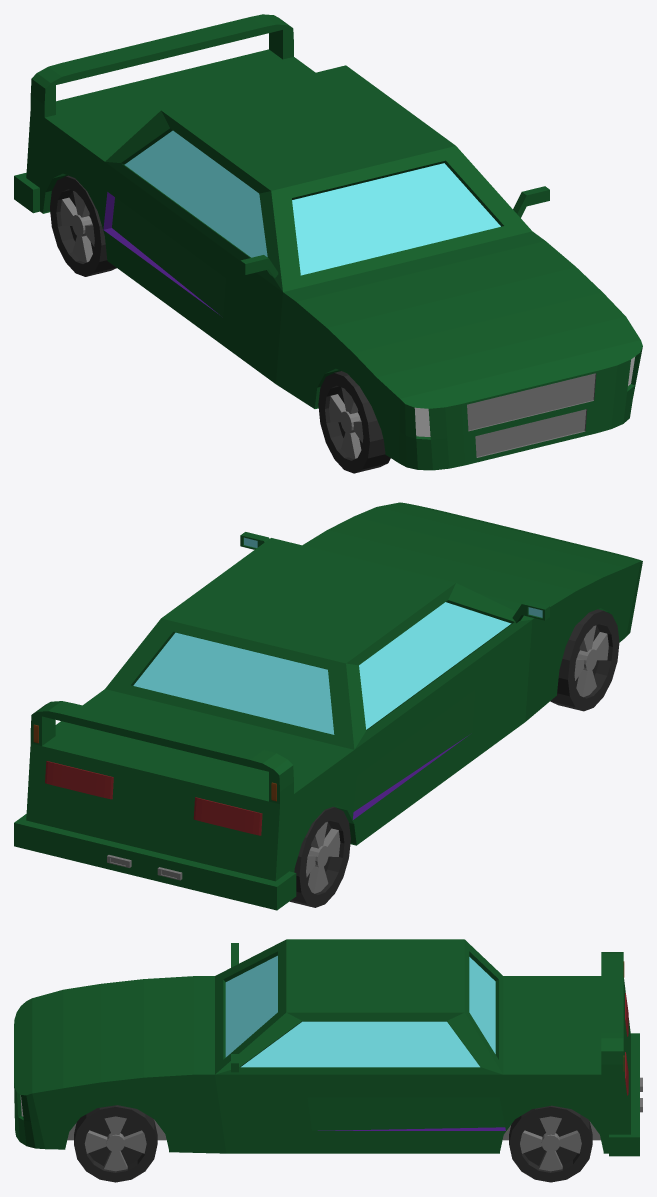
The model's file is SportCar(Old).fbx.
The picture shows the model from 3 angles, top to bottom: view 1: azimuth 30°, elevation 25°; view 2: azimuth 150°, elevation 25°; view 3: azimuth 270°, elevation 25°; orthographic projection. The views are drawn at different scales.
Visible parts, largest first — view 1: Main, FRightTire, RRightTire; view 2: Main, FRightTire, RRightTire; view 3: Main, FLeftTire, RLeftTire.
Boxes of the visible parts, x1,y1,x2,y2 form: Main: (14,14,642,470); FRightTire: (318,371,390,473); RRightTire: (50,175,116,276); Main: (14,502,642,910); FRightTire: (550,609,619,711); RRightTire: (289,807,350,907); Main: (14,939,642,1156); FLeftTire: (74,1105,157,1182); RLeftTire: (509,1105,592,1182).
Size of the model in its own units: 144 by 87.68 by 318.
